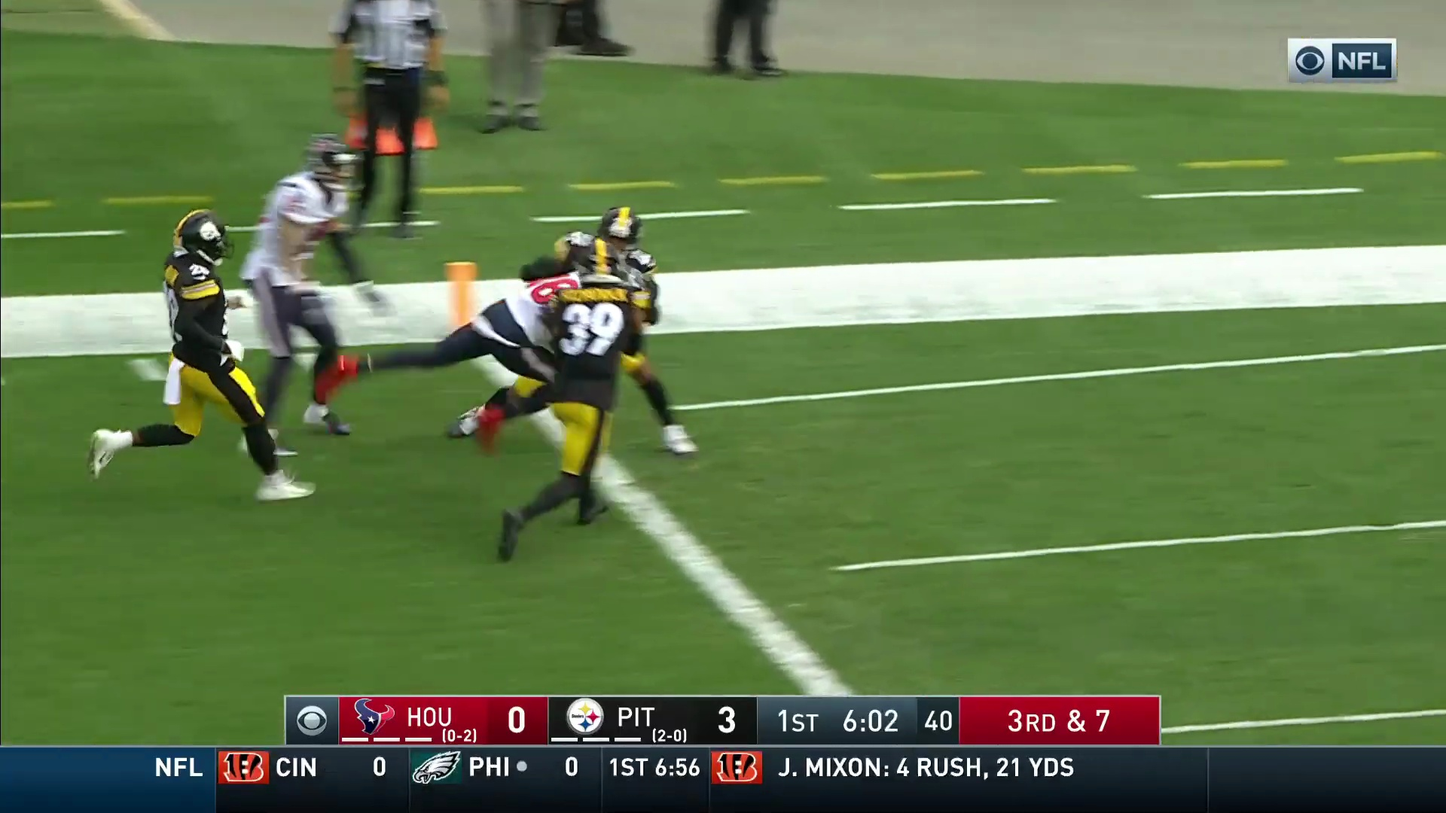Player: (244, 256, 350, 437), (339, 0, 446, 169), (247, 138, 353, 289), (164, 212, 234, 405)
